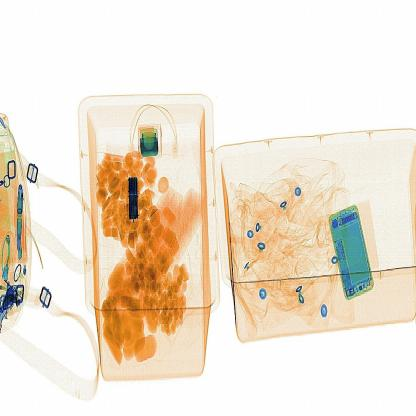scissors: (120, 165, 150, 230)
